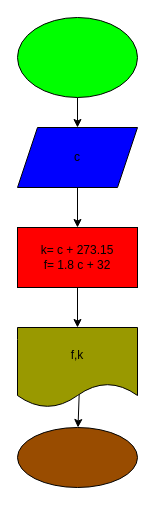
The diagram is 155 pixels wide and 505 high, and some of its shapes have lost their labels. The centre of each missing label's shape, as x and y in pixels:
"Fin" goes at [77,457].
"Inicio" goes at [77,57].
